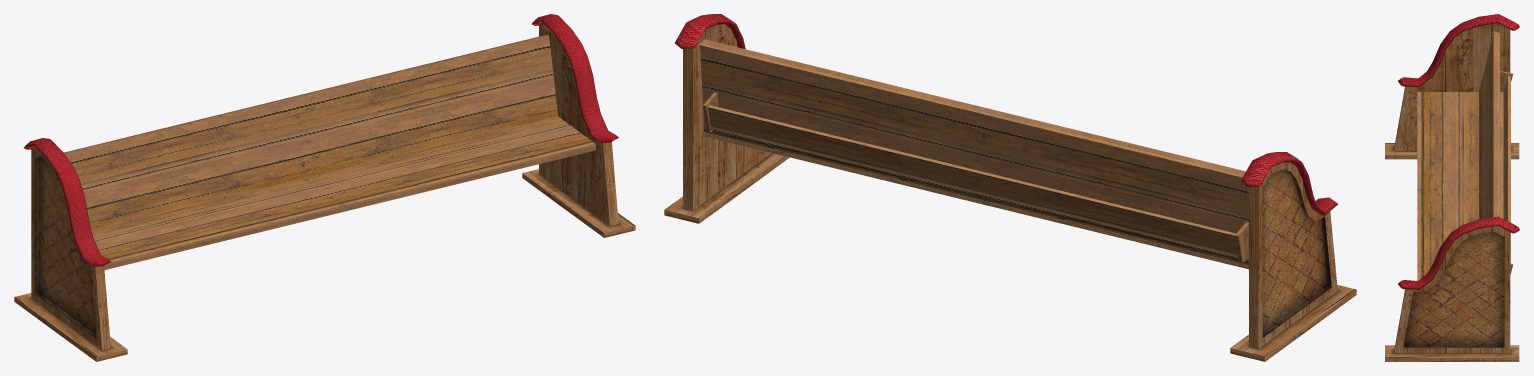
Rendered from Pew.fbx.
3 views of the same model, side by side, from view 1: azimuth 30°, elevation 25°; view 2: azimuth 150°, elevation 25°; view 3: azimuth 270°, elevation 25° (orthographic). The views are drawn at different scales.
Parts seen in each view (by area): view 1: Pew; view 2: Pew; view 3: Pew.
Boxes of the visible parts, box(x1,y1,x2,y2) form: Pew: box(14, 14, 635, 361); Pew: box(664, 14, 1356, 361); Pew: box(1385, 14, 1519, 361).
Bounding box in the file's own units: 4.24 × 1.27 × 1.12.
